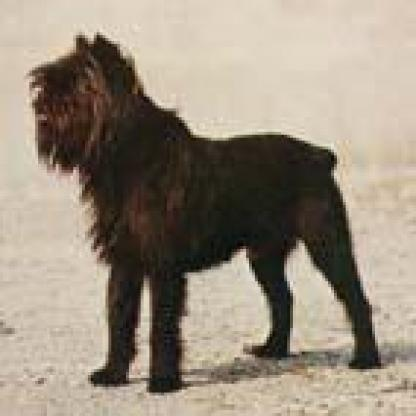affenpinscher: (18, 35, 384, 399)
